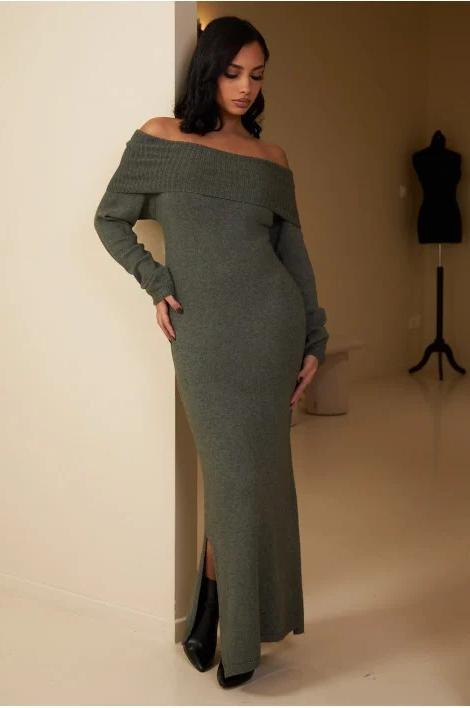dress: (92, 125, 330, 678)
